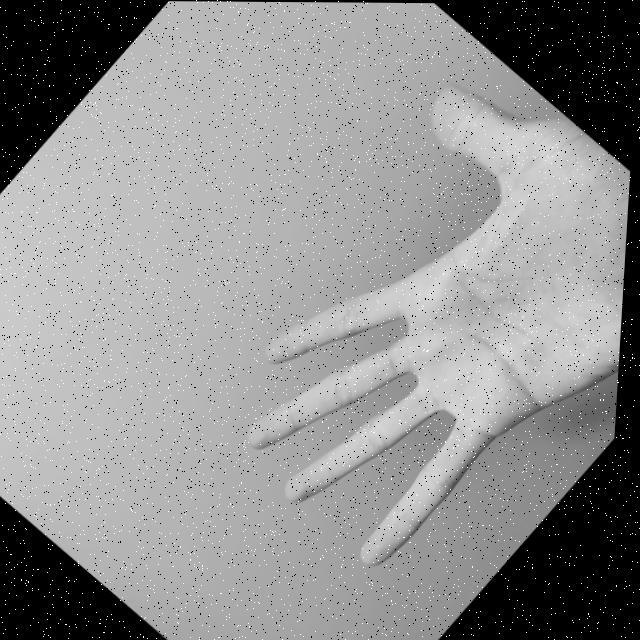no-gloves: (147, 35, 638, 640)
